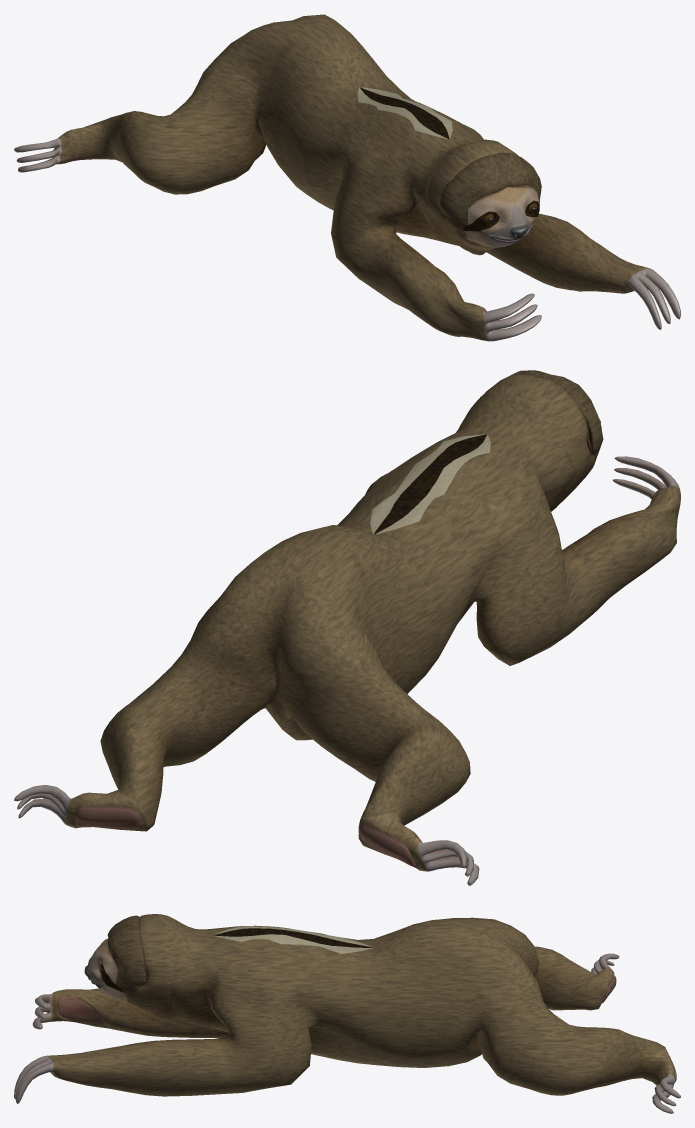
The model's file is sloth.dae.
3 views of the same model, one above another, from view 1: azimuth 30°, elevation 25°; view 2: azimuth 150°, elevation 25°; view 3: azimuth 270°, elevation 25° (orthographic). The views are drawn at different scales.
Parts seen in each view (by area): view 1: skp2DA4 (×4); view 2: skp2DA4 (×6); view 3: skp2DA4 (×6).
Boxes of the visible parts, box(x1,y1,x2,y2) form: skp2DA4 (×4): box(14, 14, 680, 341); skp2DA4 (×6): box(14, 370, 680, 885); skp2DA4 (×6): box(14, 914, 680, 1113).
Bounding box in the file's own units: 15.59 × 30.28 × 7.28.
Materials: 2 (2 with a texture image).
